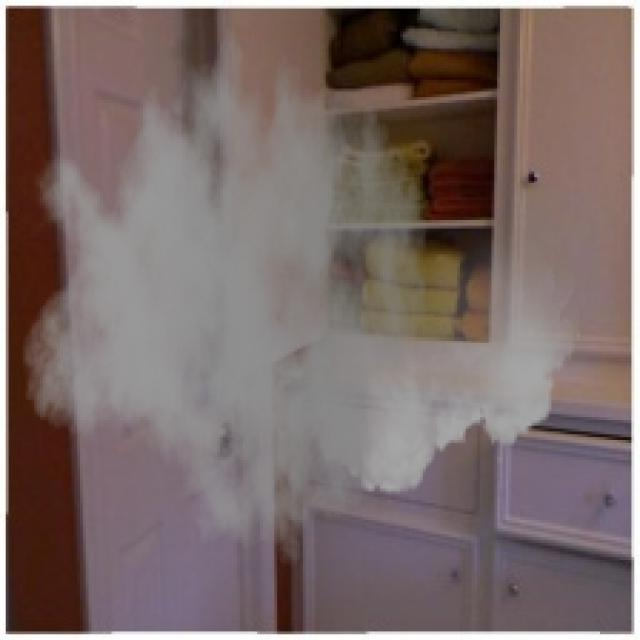Smoke: (20, 0, 583, 566)
